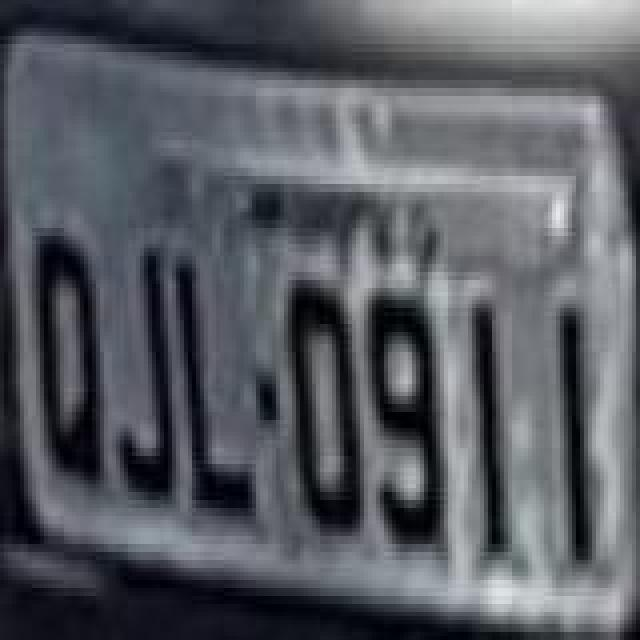1: (556, 304, 596, 576), (468, 304, 508, 560)
9: (368, 292, 448, 548)
J: (118, 244, 178, 508)
L: (178, 256, 254, 528)
O: (284, 280, 364, 536)
Q: (34, 232, 102, 488)
